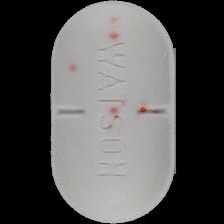0591-3202: (0, 0, 224, 224)
